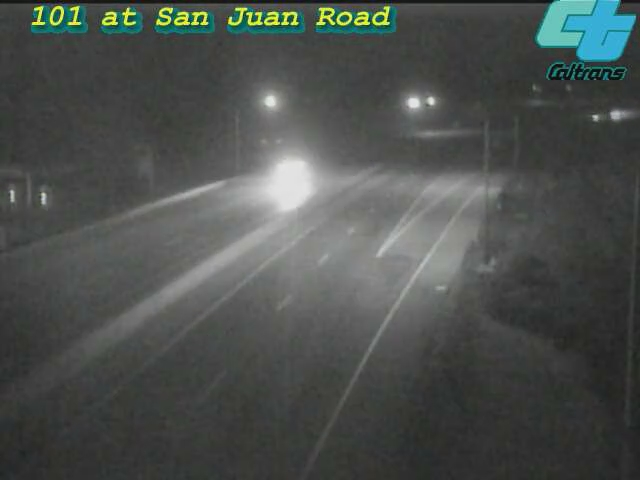vehicle: (249, 140, 329, 220), (592, 90, 640, 140)
